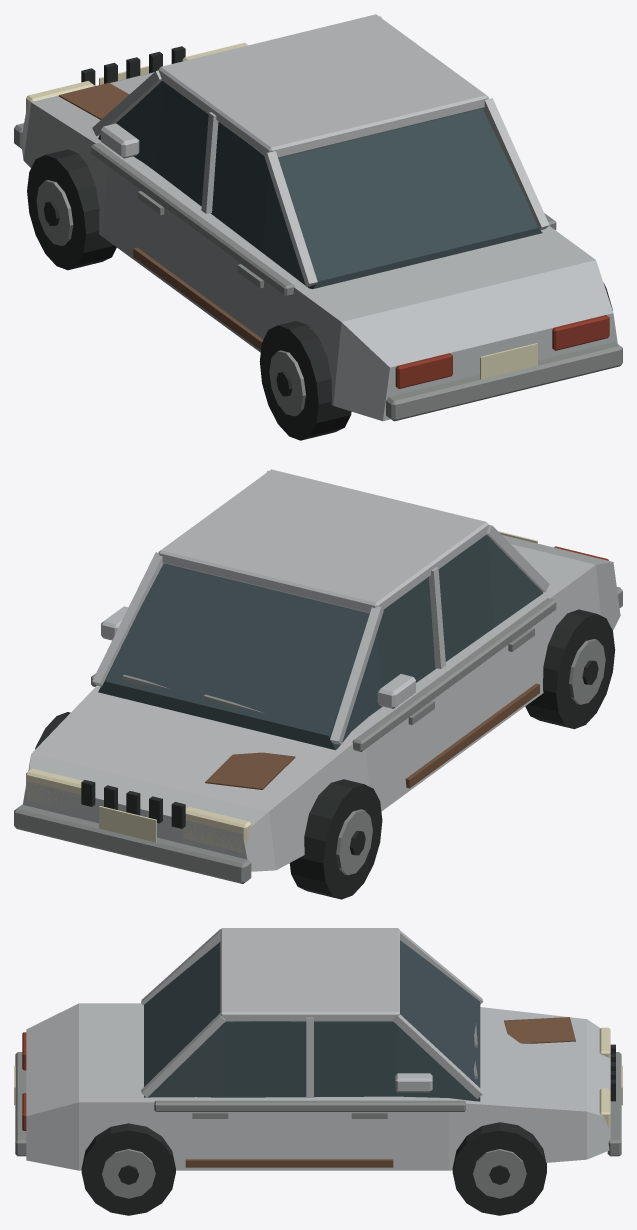
Rendered from car.glb.
3 renders of one model, top to bottom at view 1: azimuth 30°, elevation 25°; view 2: azimuth 150°, elevation 25°; view 3: azimuth 270°, elevation 25°, orthographic. The views are drawn at different scales.
Visible parts, largest first — view 1: car; view 2: car; view 3: car.
Part boxes in pixels (left/top/right/bottom): car: left=14, top=14, right=622, bottom=440; car: left=14, top=469, right=622, bottom=899; car: left=14, top=928, right=622, bottom=1215.
Bounding box in the file's own units: 2.06 × 1.5 × 4.4.
